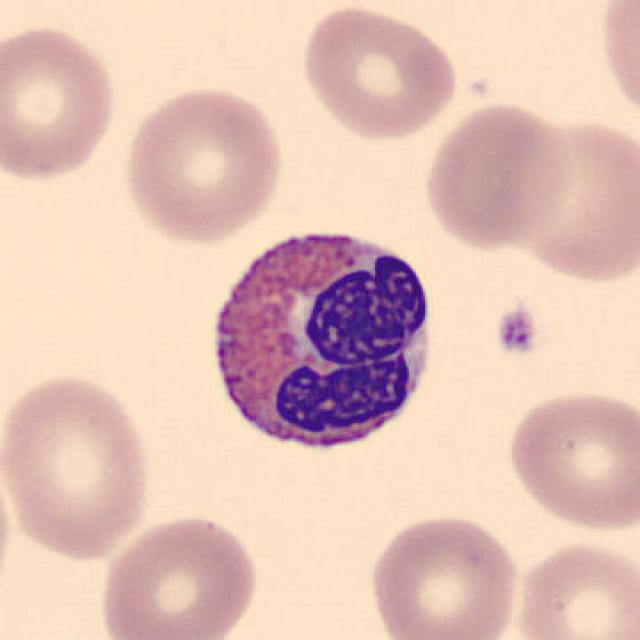Eosinophil: (198, 213, 444, 474)
Platelets: (490, 305, 540, 360)
RBC: (0, 366, 156, 564), (117, 81, 288, 245), (420, 99, 576, 252), (297, 1, 460, 144), (508, 113, 638, 287), (94, 509, 263, 640), (364, 509, 522, 640), (0, 19, 123, 187), (503, 386, 638, 536), (508, 536, 638, 640), (594, 0, 640, 132), (0, 434, 18, 619)
